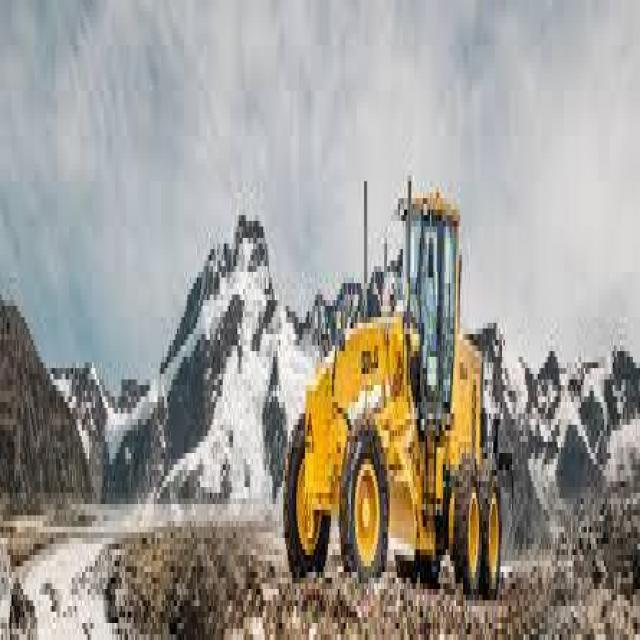Grader: (268, 148, 508, 634)
